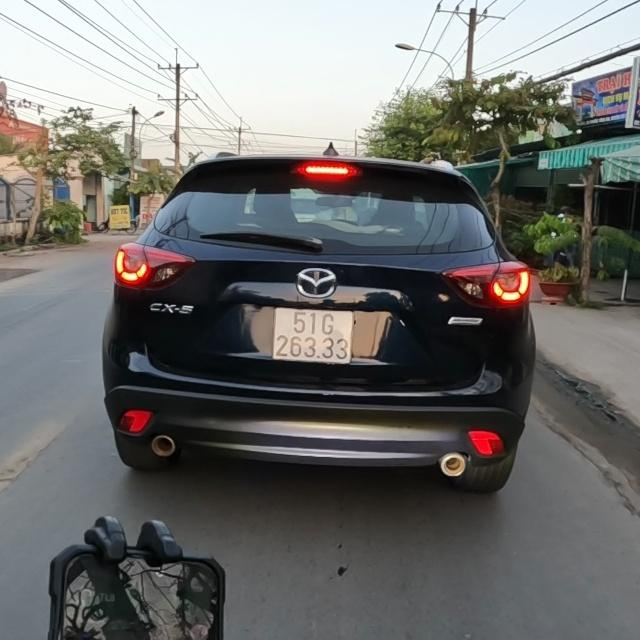license-plate: (268, 305, 356, 366)
